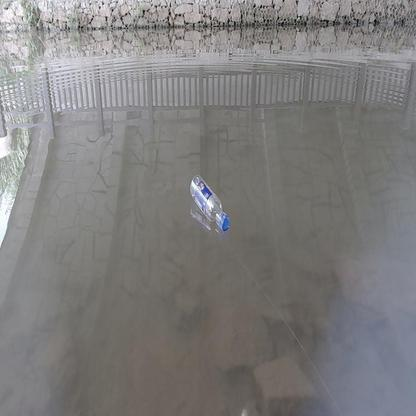plastic bottle: (188, 175, 230, 231)
